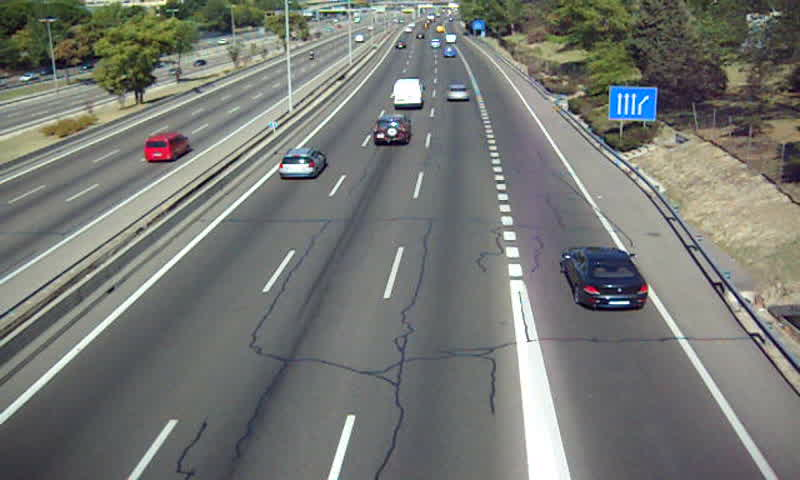car: (562, 247, 649, 310), (280, 148, 327, 179), (373, 114, 412, 146), (446, 82, 472, 101)
van: (392, 79, 426, 108)
